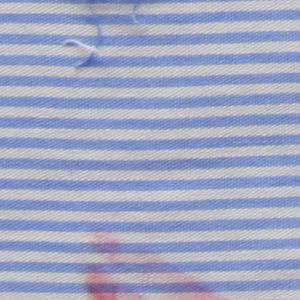Damage: (57, 1, 146, 76)
Stain: (82, 231, 228, 300)
